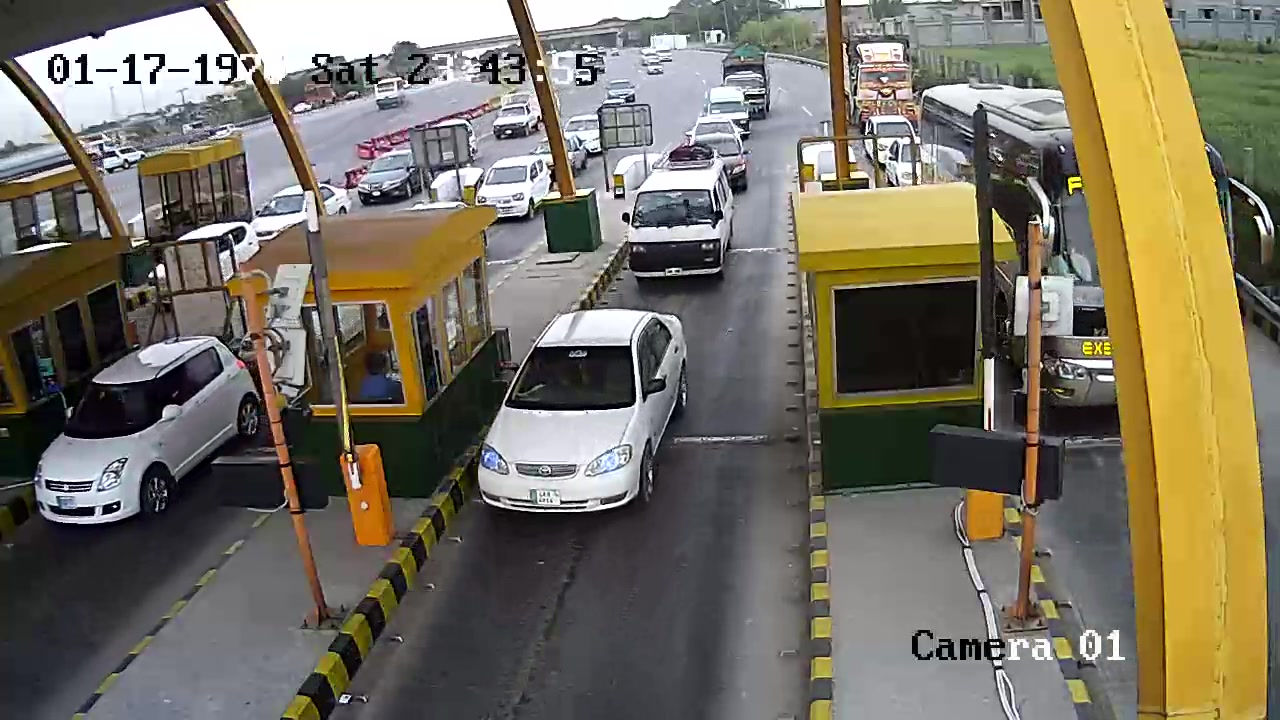F1: (472, 302, 706, 527)
